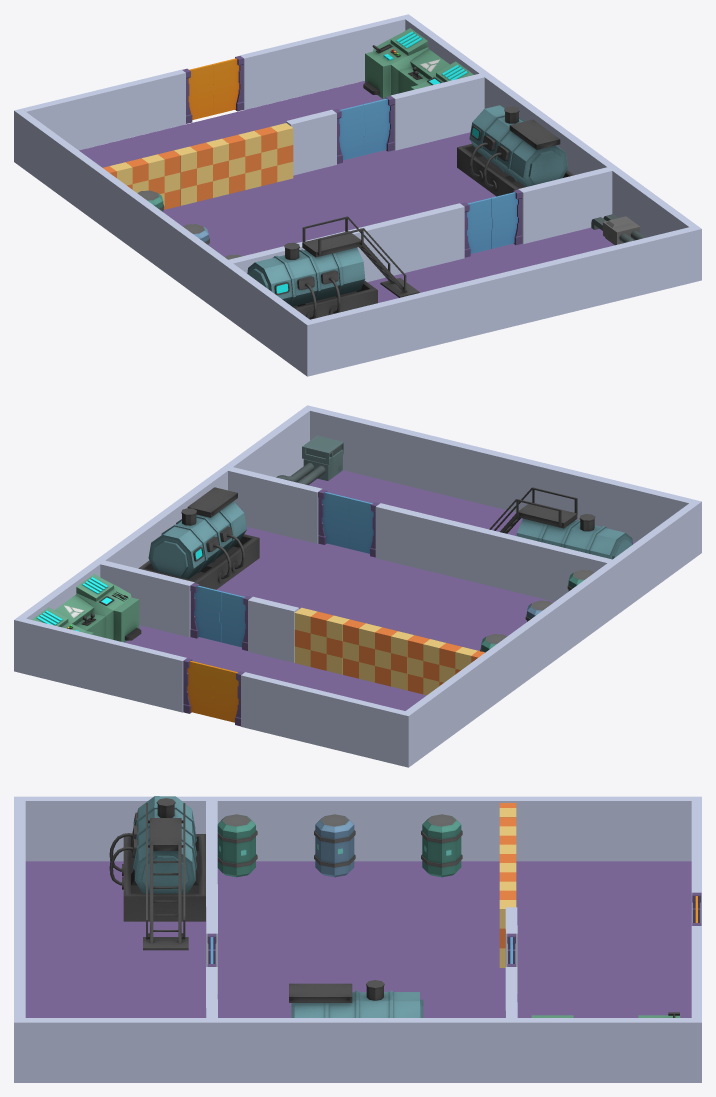
The model's file is maps_13.fbx.
The picture shows the model from 3 angles, top to bottom: view 1: azimuth 30°, elevation 25°; view 2: azimuth 150°, elevation 25°; view 3: azimuth 270°, elevation 25°; orthographic projection. The views are drawn at different scales.
Visible parts, largest first — view 1: frames_13_geo, frames_06_geo, frames_03_geo, tankwater_geo1, frames_11_geo, frames_12_geo, frames_04_geo, tankwater_geo2, frames_02_geo2, frames_02_geo3, frames_02_geo1, table_01_geo1 (+8 smaller); view 2: frames_13_geo, frames_06_geo, frames_03_geo, frames_02_geo2, frames_11_geo, frames_12_geo, frames_04_geo, tankwater_geo2, frames_02_geo3, tankwater_geo1, table_01_geo1, frames_02_geo1 (+8 smaller); view 3: frames_13_geo, frames_04_geo, frames_03_geo, tankwater_geo1, tankwater_geo2, frames_06_geo, tank02__geo, tank_01_geo, tank_03_geo, frames_02_geo2, frames_12_geo, frames_11_geo (+3 smaller).
Part boxes in pixels (x1,y1,x2,y2): frames_13_geo: (79,81,614,302); frames_06_geo: (310,227,694,374); frames_03_geo: (14,108,314,376); tankwater_geo1: (247,216,419,319); frames_11_geo: (240,16,405,109); frames_12_geo: (22,69,185,150); frames_04_geo: (401,14,701,282); tankwater_geo2: (457,105,573,196); frames_02_geo2: (228,203,464,281); frames_02_geo3: (518,167,612,243); frames_02_geo1: (390,73,484,150); table_01_geo1: (363,28,473,98); frames_13_geo: (125,470,635,710); frames_06_geo: (310,407,693,541); frames_03_geo: (401,499,701,767); frames_02_geo2: (375,503,612,601); frames_11_geo: (21,618,186,712); frames_12_geo: (241,672,404,765); frames_04_geo: (14,405,314,673); tankwater_geo2: (138,487,259,589); frames_02_geo3: (228,467,322,543); tankwater_geo1: (489,487,632,559); table_01_geo1: (31,574,141,642); frames_02_geo1: (100,560,194,637); frames_13_geo: (25,861,691,1017); frames_04_geo: (14,1018,701,1082); frames_03_geo: (14,796,701,861); tankwater_geo1: (109,796,205,950); tankwater_geo2: (289,980,423,1017); frames_06_geo: (14,801,25,1017); tank02__geo: (314,814,355,877); tank_01_geo: (421,814,462,877); tank_03_geo: (217,814,257,877); frames_02_geo2: (206,801,217,993); frames_12_geo: (691,801,701,925); frames_11_geo: (691,926,701,1018).
Size of the model in its own units: 71.19 by 14.05 by 91.67.
8 materials, 8 textured.
